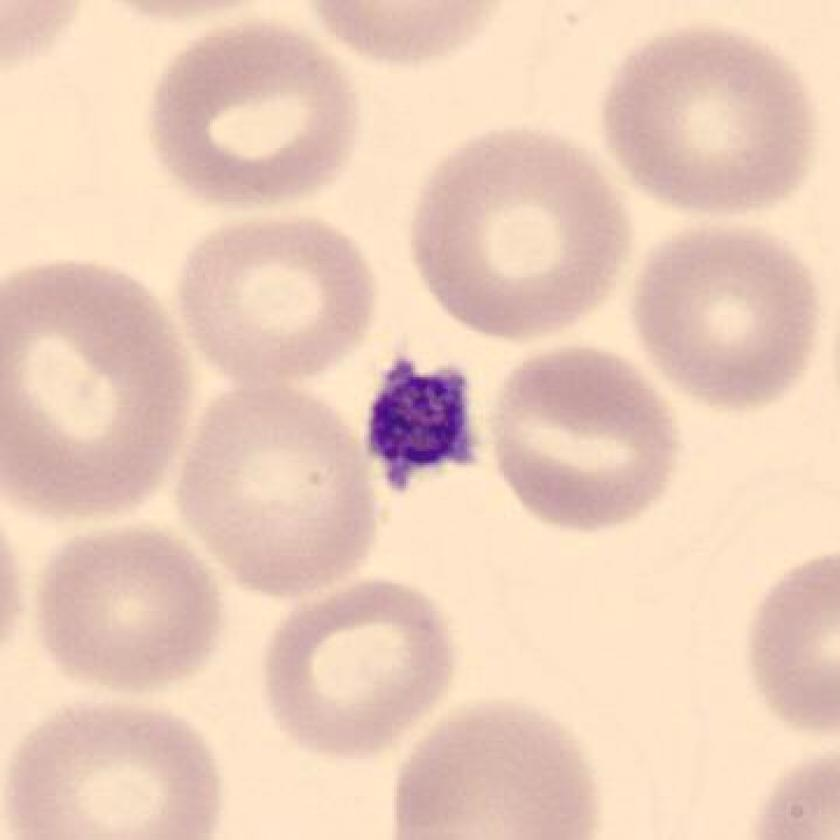platelets: (363, 348, 484, 503)
